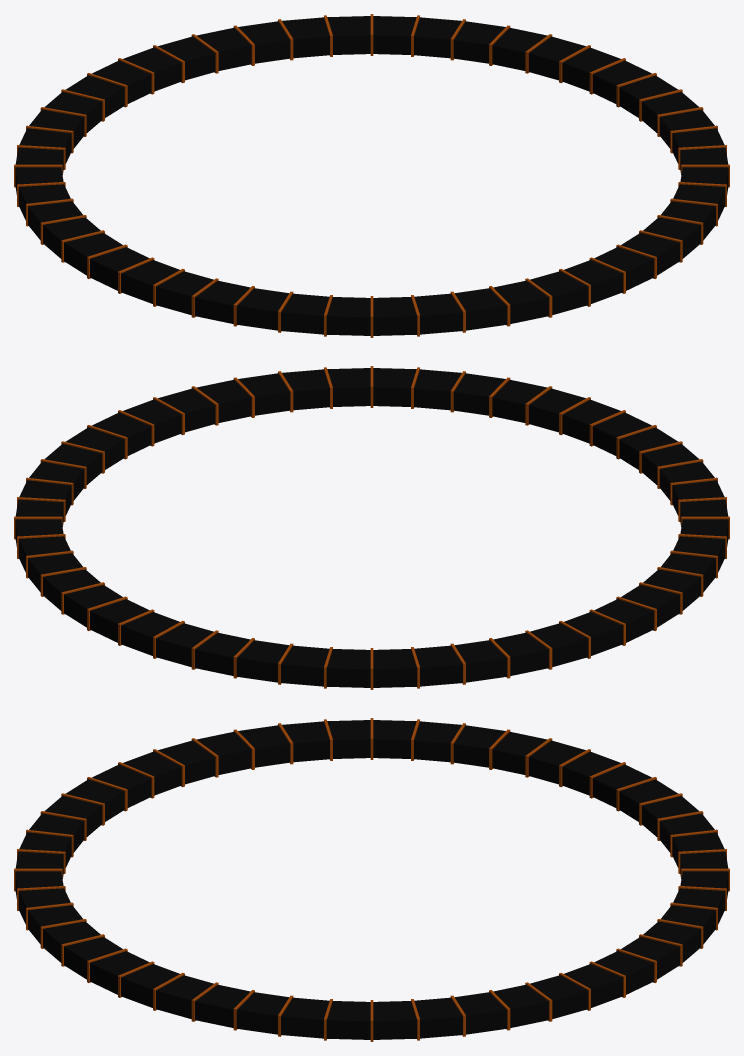
Rendered from InnerRing.FBX.
3 renders of one model, top to bottom at view 1: azimuth 30°, elevation 25°; view 2: azimuth 150°, elevation 25°; view 3: azimuth 270°, elevation 25°, orthographic.
Visible parts, largest first — view 1: Tube006; view 2: Tube006; view 3: Tube006.
Boxes of the visible parts, bbox=[...] form: Tube006: bbox=[14, 14, 729, 337]; Tube006: bbox=[14, 366, 729, 689]; Tube006: bbox=[14, 718, 729, 1041].
Size of the model in its own units: 157 by 5.14 by 157.
